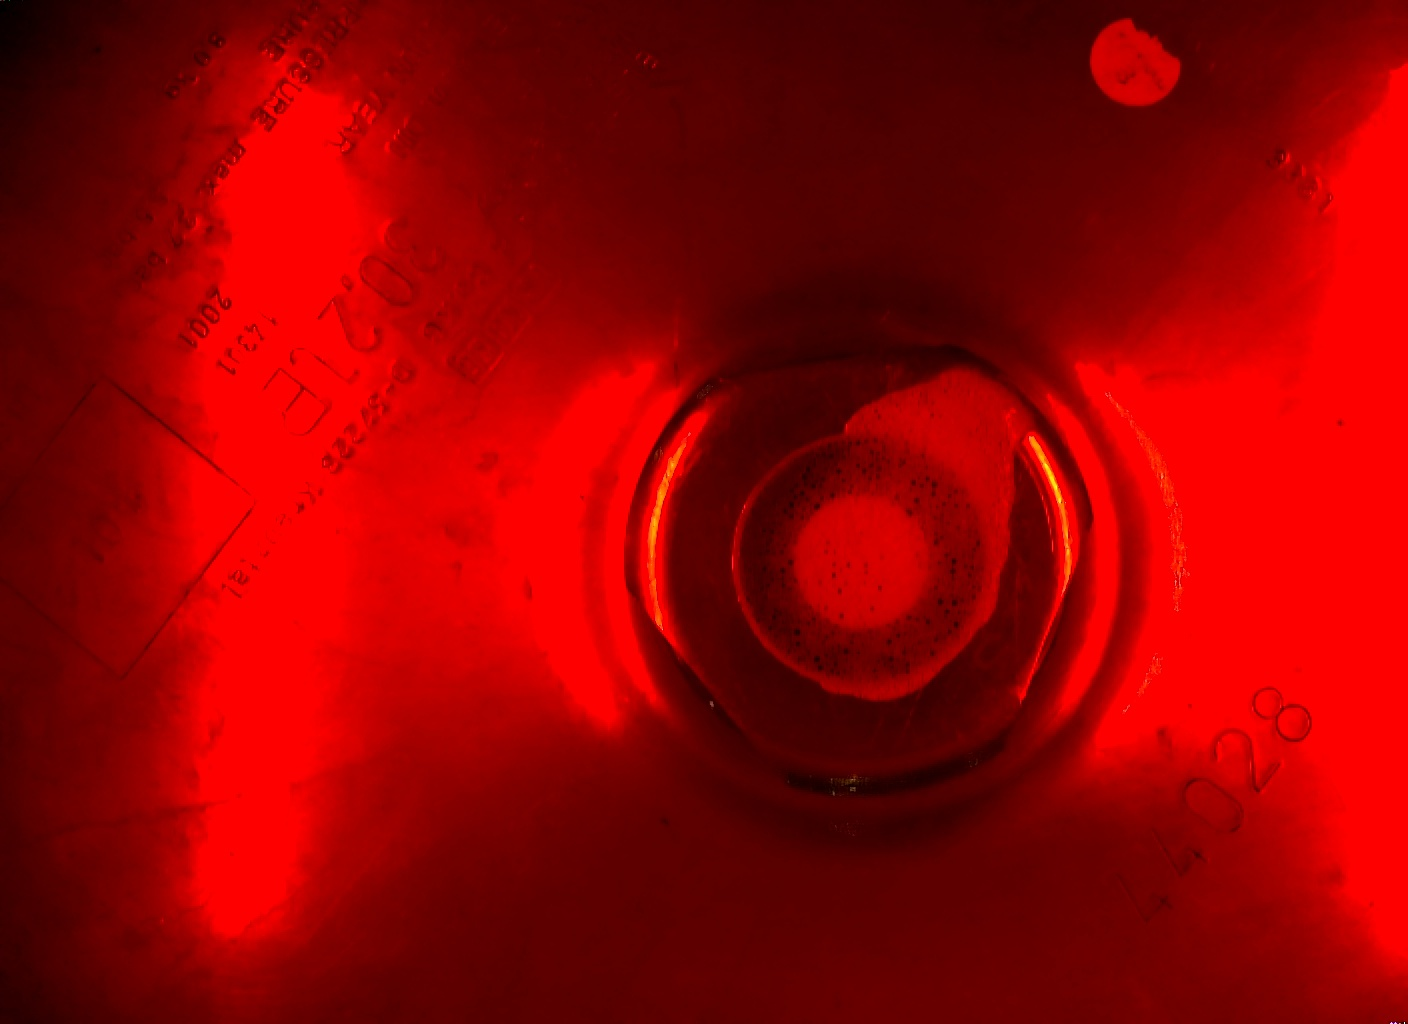pena: (730, 368, 1051, 705)
